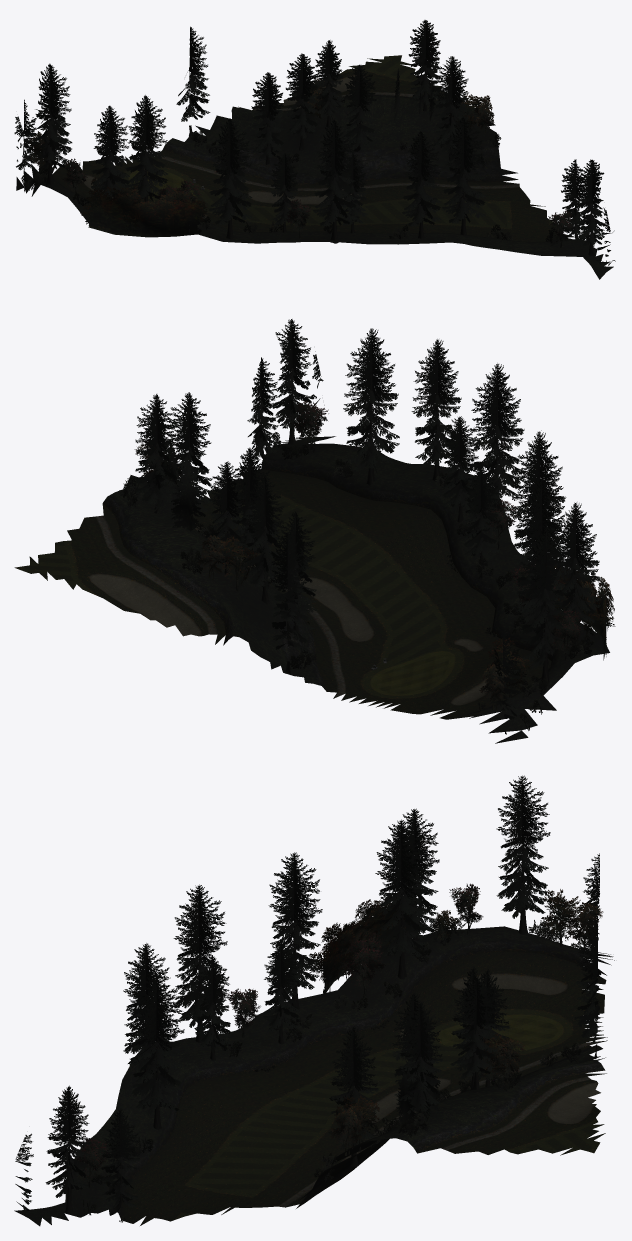
File: cell_8_-16.gltf
The picture shows the model from 3 angles, top to bottom: view 1: azimuth 30°, elevation 25°; view 2: azimuth 150°, elevation 25°; view 3: azimuth 270°, elevation 25°; orthographic projection. The views are drawn at different scales.
Visible parts, largest first — view 1: cell_8_-16; view 2: cell_8_-16; view 3: cell_8_-16.
Part boxes in pixels (left/top/right/bottom): cell_8_-16: left=14, top=20, right=615, bottom=279; cell_8_-16: left=14, top=319, right=615, bottom=743; cell_8_-16: left=14, top=775, right=614, bottom=1226.
Size of the model in its own units: 269 by 104 by 270.
Materials: 29 (29 with a texture image).
